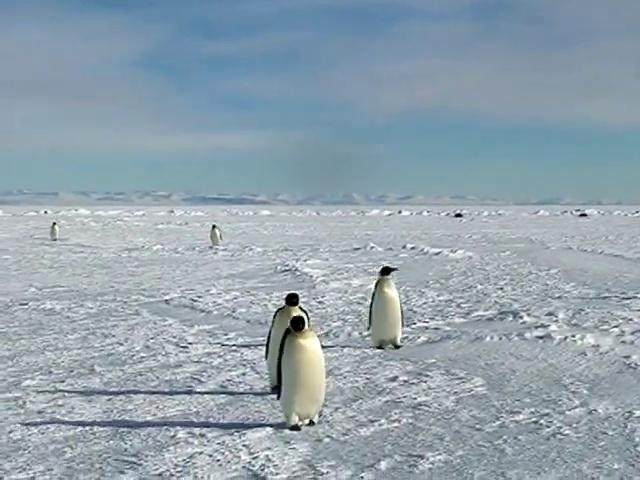animal: (369, 266, 402, 348)
